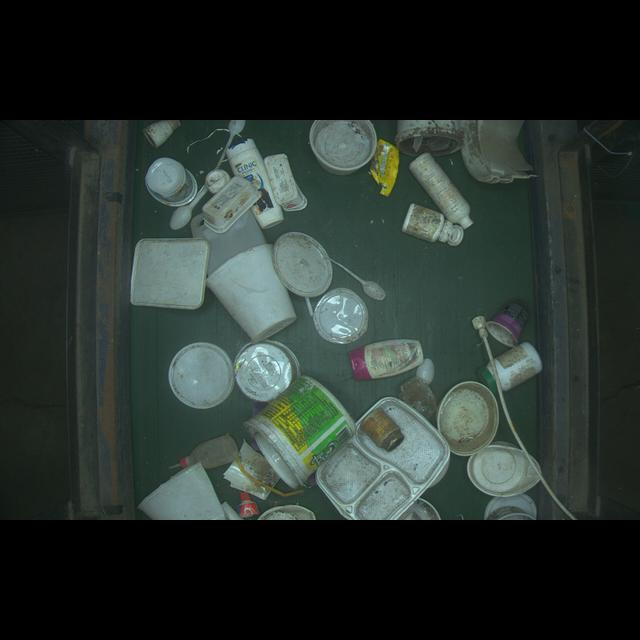mix PP: (160, 339, 236, 409), (347, 337, 431, 376), (403, 205, 464, 250), (486, 299, 528, 350), (362, 406, 405, 451)
